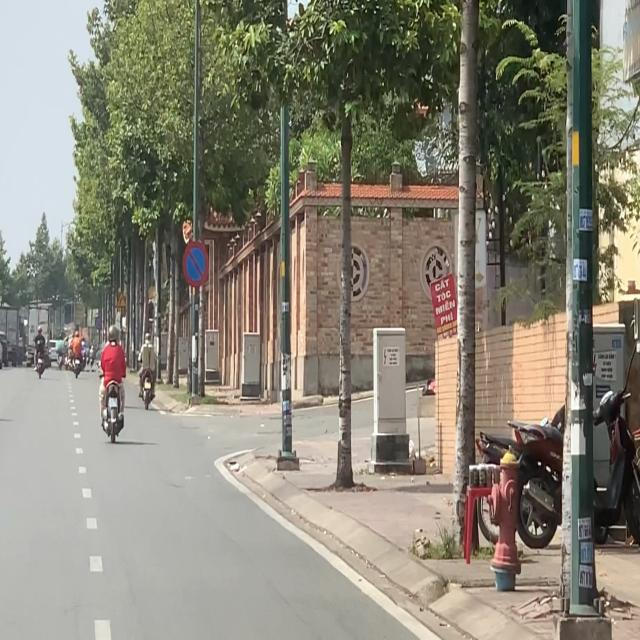Cam do: (180, 239, 212, 292)
Nguy hiem: (114, 291, 128, 310)
